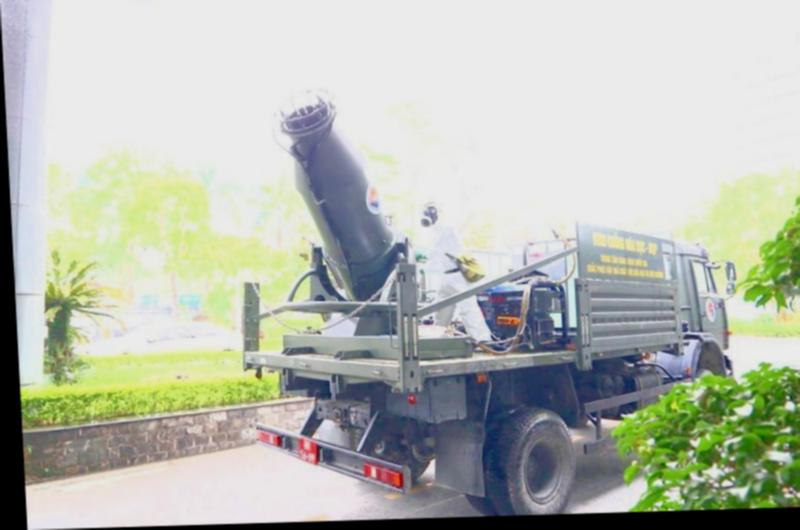License_Plate: (296, 435, 322, 463)
